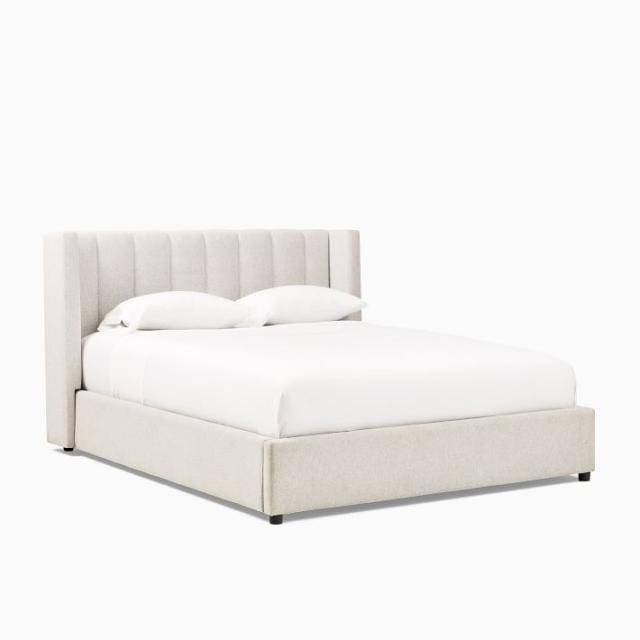obstacle: (41, 226, 596, 525)
